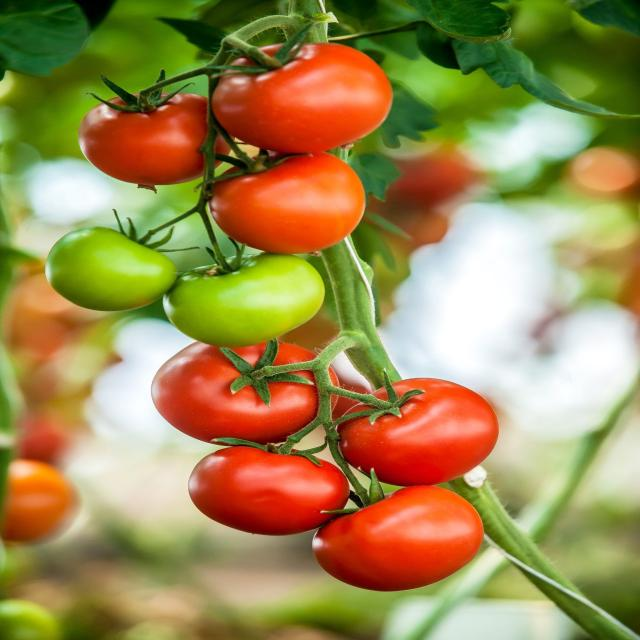level 3: (163, 250, 334, 344), (45, 223, 178, 319)
level 5: (224, 41, 390, 149), (212, 152, 364, 258)
level 6: (158, 344, 340, 446), (318, 482, 481, 586), (346, 378, 500, 486), (80, 88, 228, 183), (195, 439, 340, 532)
